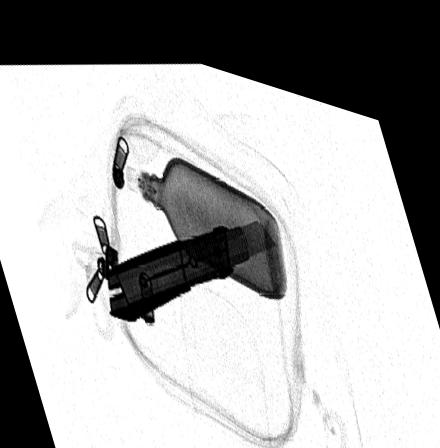Knife: (106, 201, 278, 314)
